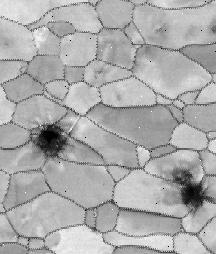good_void: (167, 168, 216, 213), (31, 120, 70, 162), (92, 66, 109, 84), (208, 18, 216, 36), (89, 222, 100, 234), (89, 211, 99, 219)
